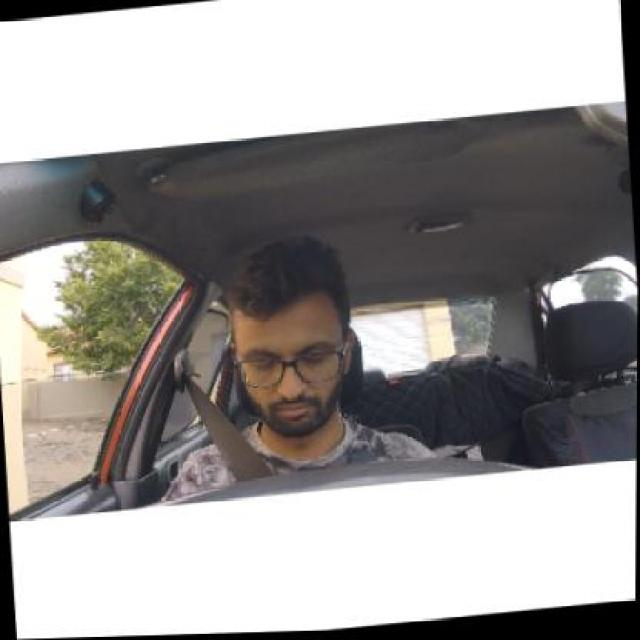drowsy: (227, 280, 358, 437)
